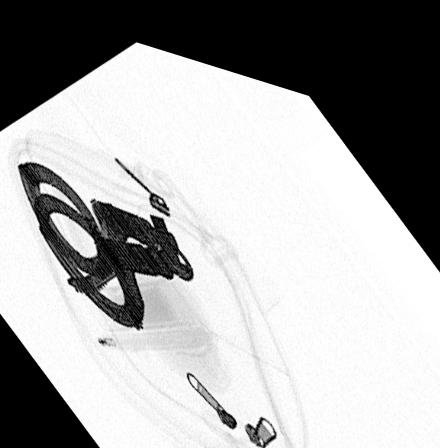HandCuffs: (14, 157, 197, 323)
